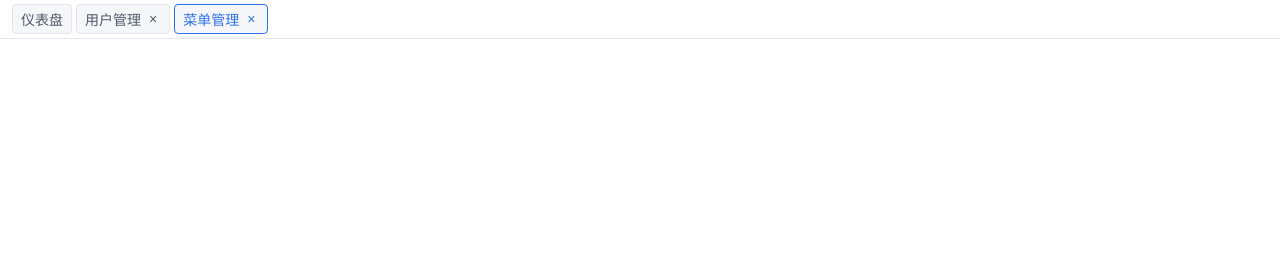
Scenario: AppTabs（自绘页签） › 右键打开菜单：含刷新/关闭/关闭其他等项，关闭其他后仅剩 affix 与当前
The image size is (1280, 260).
Right-click the link with class "app-tabs__item" showing "菜单管理 ×" at (221, 19), box [174,4,268,34]
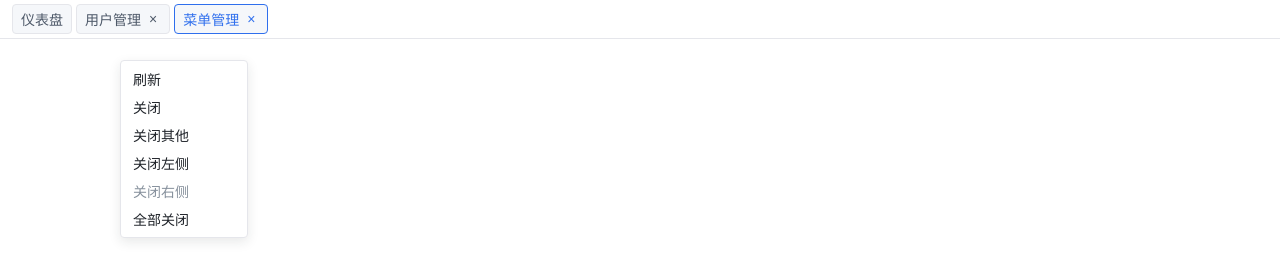
Result: the menu with class "tab-context-menu" is shown at [120,60,248,238]
Result: the menu with class "tab-context-menu" shows "刷新" at [121,65,247,93]
Result: the menu with class "tab-context-menu" shows "关闭其他"
Click the menu item "关闭其他" at (184, 135), box [121,121,247,149]
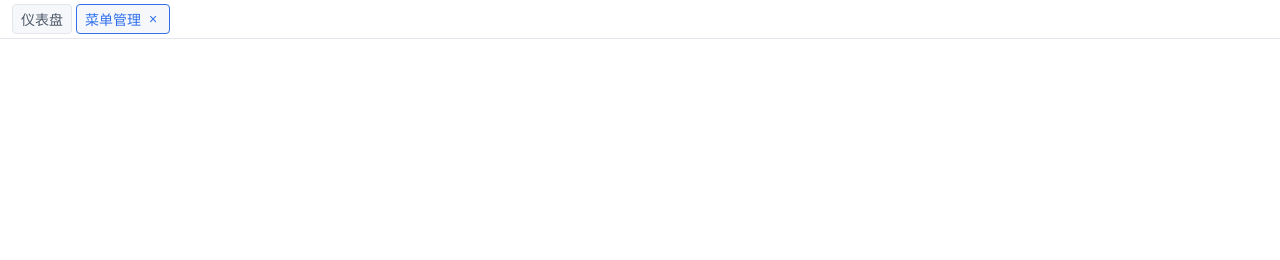
Result: the elements with class "app-tabs__title" read "仪表盘", "菜单管理", in this order at [21,9,63,29]; [85,9,141,29]
